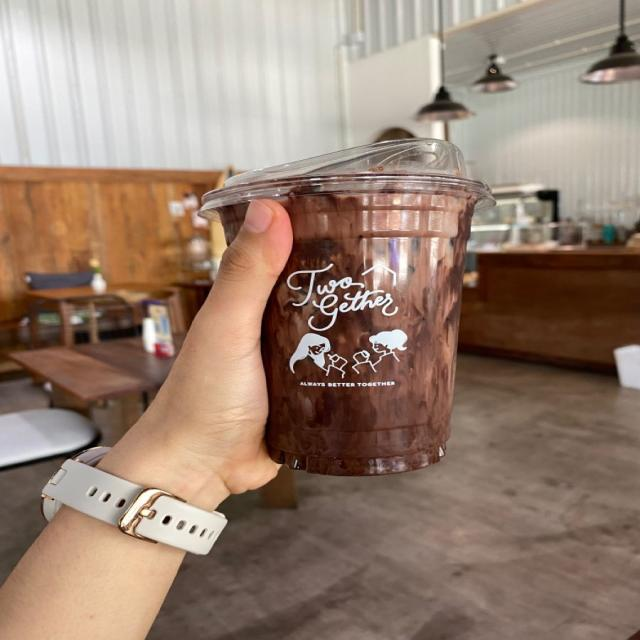plastic cup: (196, 137, 497, 476)
